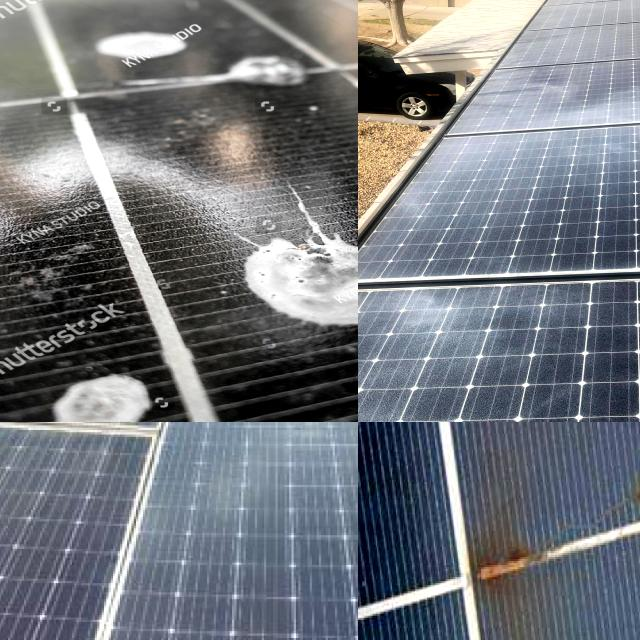bird: (180, 171, 358, 331), (33, 343, 165, 422), (185, 48, 358, 101), (76, 16, 200, 64)
dust: (161, 542, 358, 639), (0, 454, 102, 640)
shadow: (442, 465, 580, 618), (608, 446, 640, 539)
